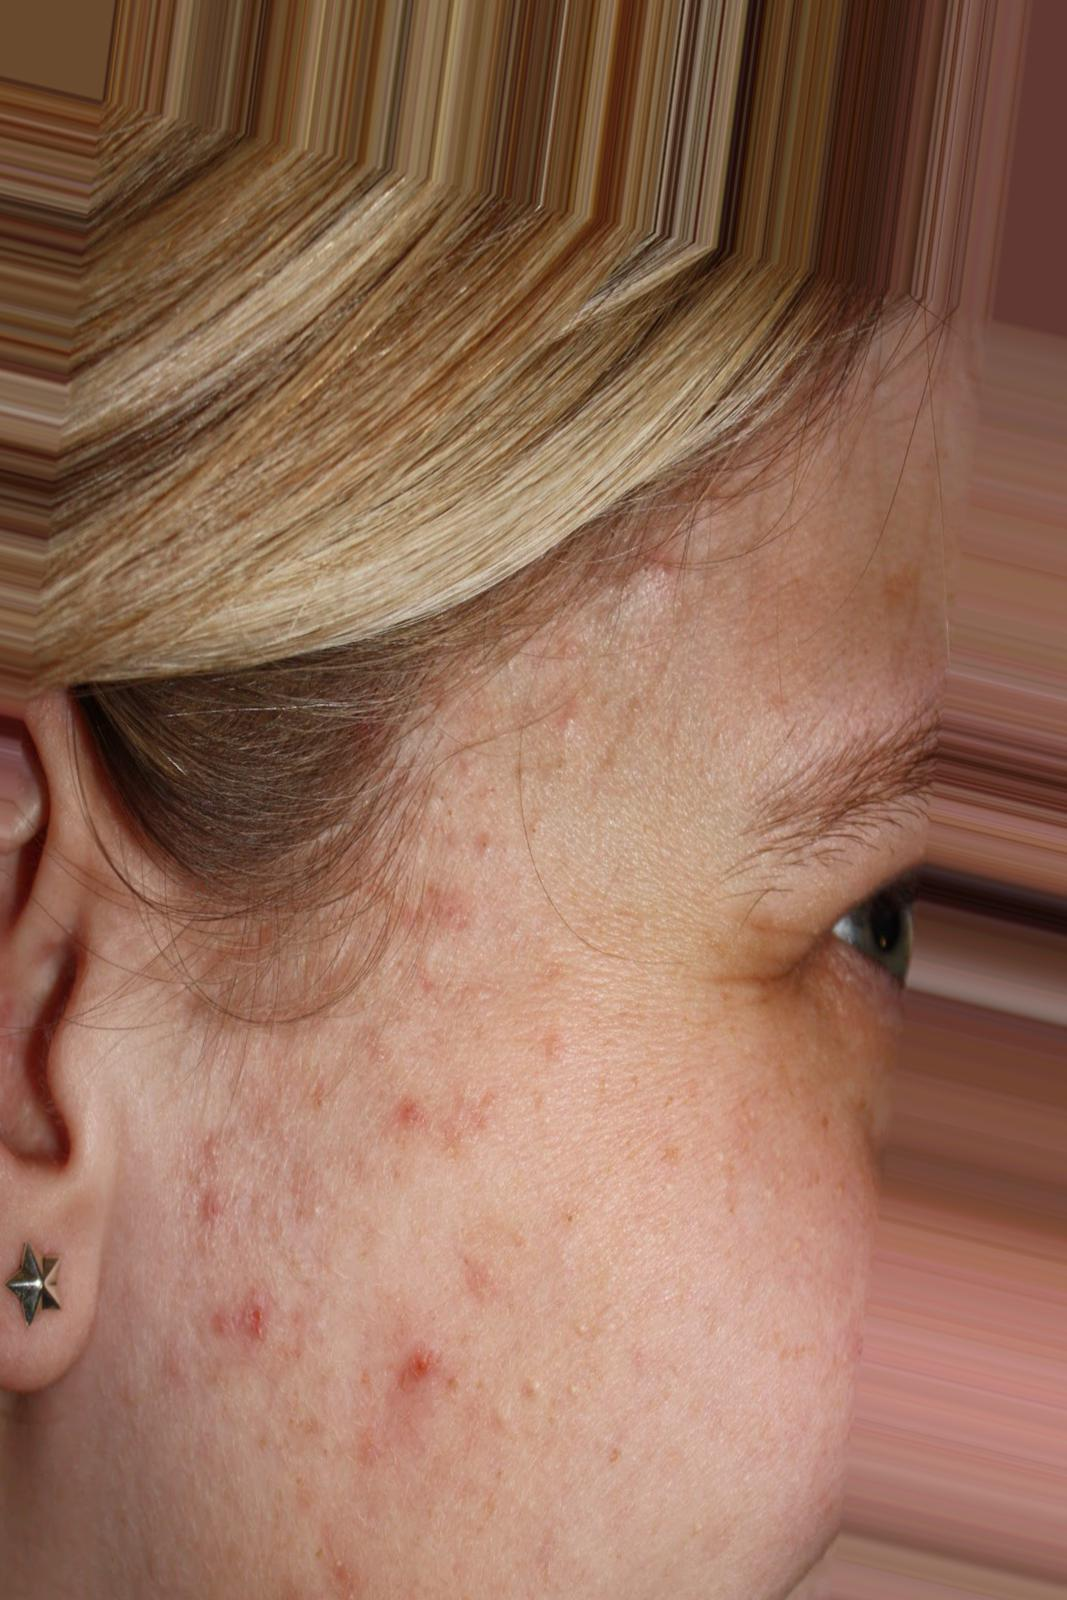Acne: (187, 1246, 310, 1367), (372, 1292, 462, 1444), (342, 1062, 482, 1150)
